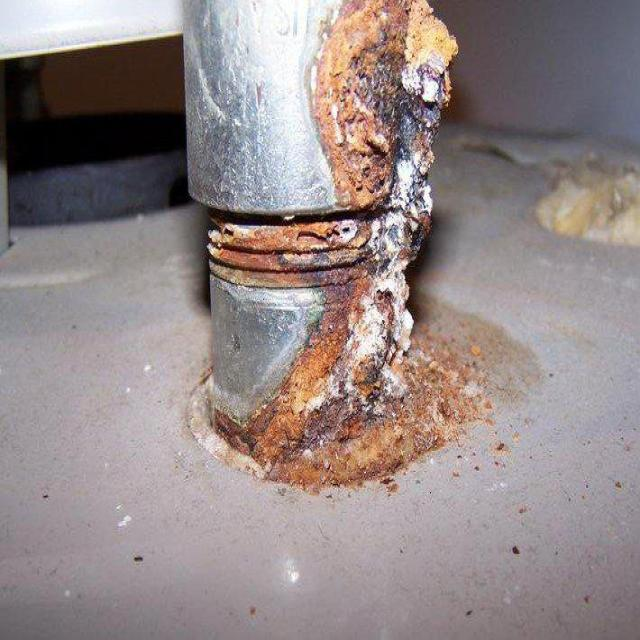corrosion: (206, 0, 510, 509)
